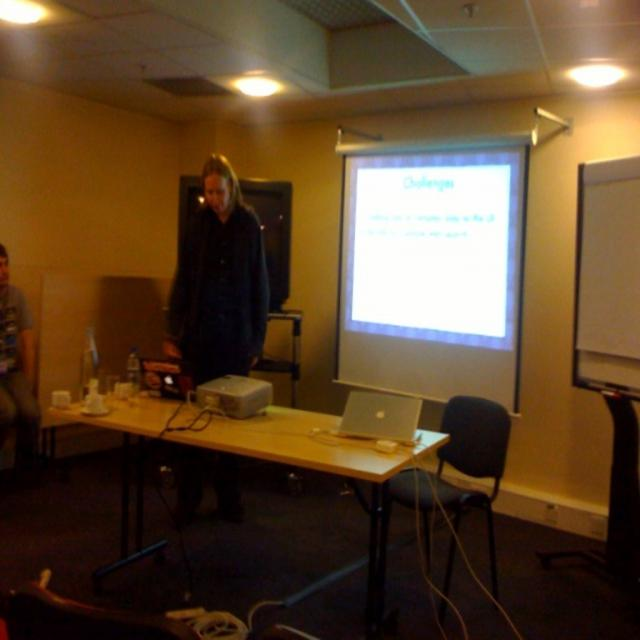chair: (385, 396, 513, 599), (3, 571, 227, 640)
desk: (31, 352, 480, 601)
laptop: (311, 391, 423, 447)
person: (163, 153, 271, 526), (0, 244, 42, 469)
tv: (334, 140, 530, 405), (572, 153, 640, 399)
